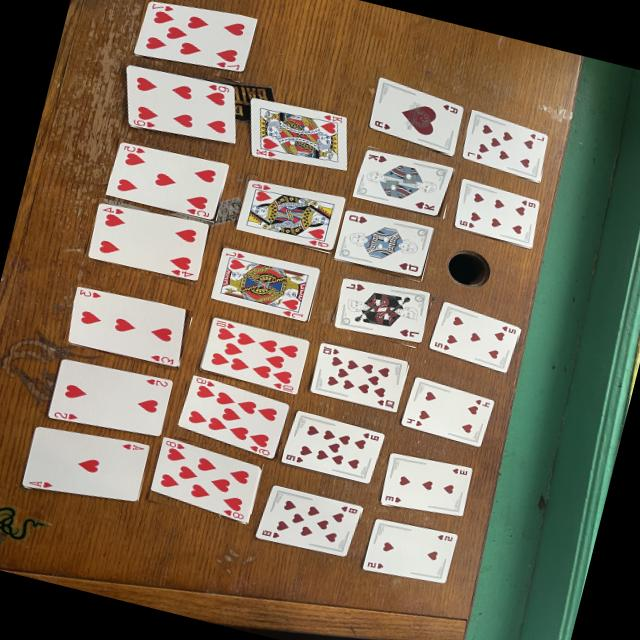10 of hearts: (200, 317, 309, 394), (310, 343, 408, 412)
2 of hearts: (48, 359, 173, 436), (362, 519, 457, 583)
3 of hearts: (69, 288, 187, 368), (380, 454, 473, 517)
4 of hearts: (88, 205, 209, 282), (401, 377, 494, 447)
5 of hearts: (106, 143, 228, 220), (429, 303, 520, 373)
6 of hearts: (125, 66, 235, 143), (454, 179, 540, 247)
7 of hearts: (133, 3, 257, 73), (462, 111, 549, 182)
8 of hearts: (151, 438, 260, 523), (256, 486, 362, 557)
9 of hearts: (177, 376, 289, 459), (281, 411, 385, 484)
Ace of hearts: (22, 428, 149, 502), (368, 78, 464, 155)
Jack of hearts: (211, 247, 320, 321), (334, 279, 429, 343)
King of hearts: (250, 99, 347, 171), (353, 150, 454, 216)
Queen of hearts: (235, 180, 345, 250), (333, 212, 433, 278)
